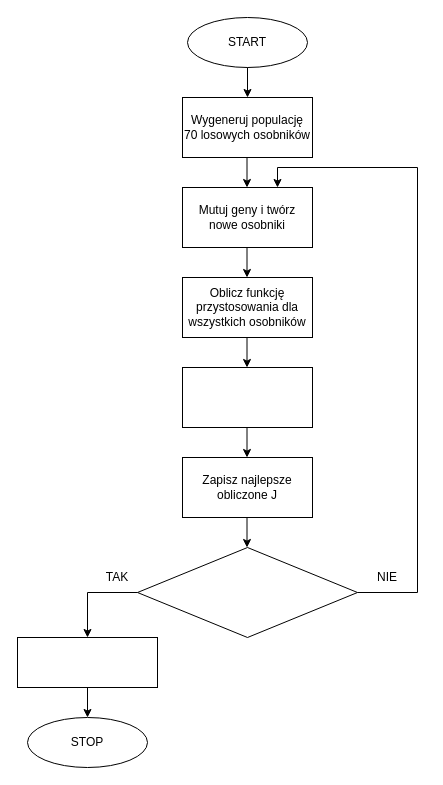
The diagram is 443 pixels wide and 785 high, and some of its shapes have lost their labels. Each missing label, with the centre of its shape:
"Czy została wykonana zakładana liczba iteracji ?" belongs at point 247,592.
"Sporządź wykres wszystkich najlepszych J" belongs at point 87,662.
"Usuń gorszą połowę osobników" belongs at point 247,397.
